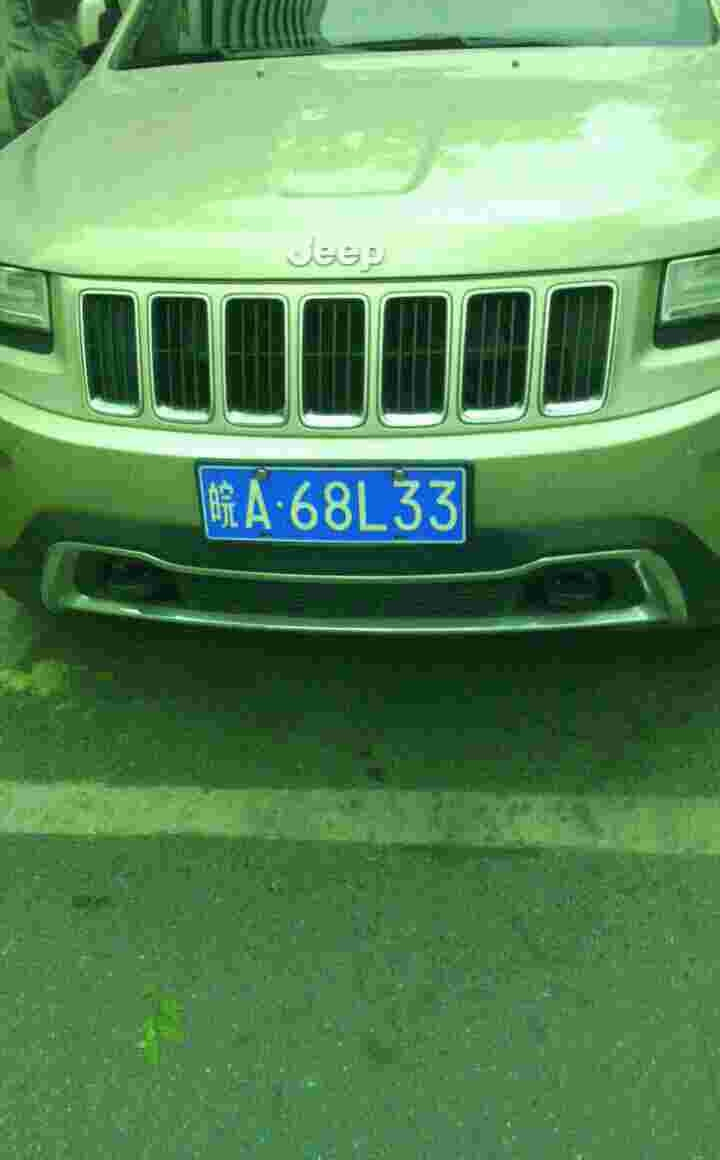license_plate: (194, 465, 477, 543)
